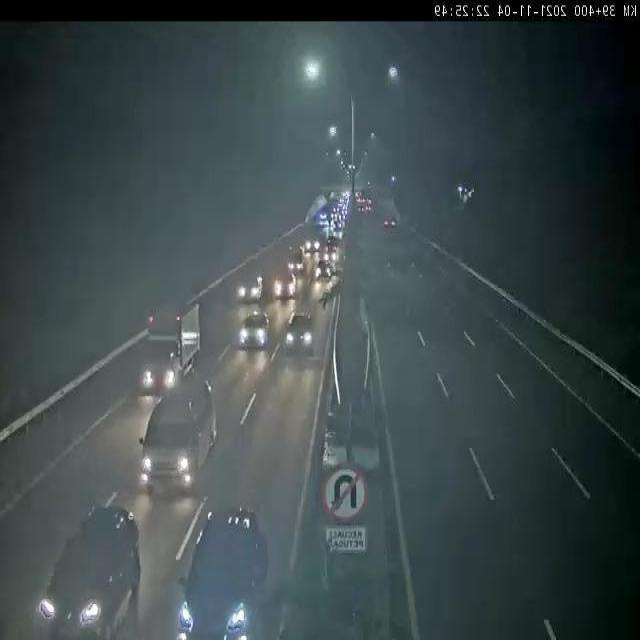Car: (38, 496, 139, 635), (186, 508, 266, 640), (139, 379, 217, 489), (282, 313, 313, 354), (239, 312, 271, 350), (234, 273, 264, 300), (274, 274, 296, 302), (315, 262, 335, 279), (304, 239, 320, 251)
Truck: (139, 297, 201, 388), (288, 244, 304, 274)
